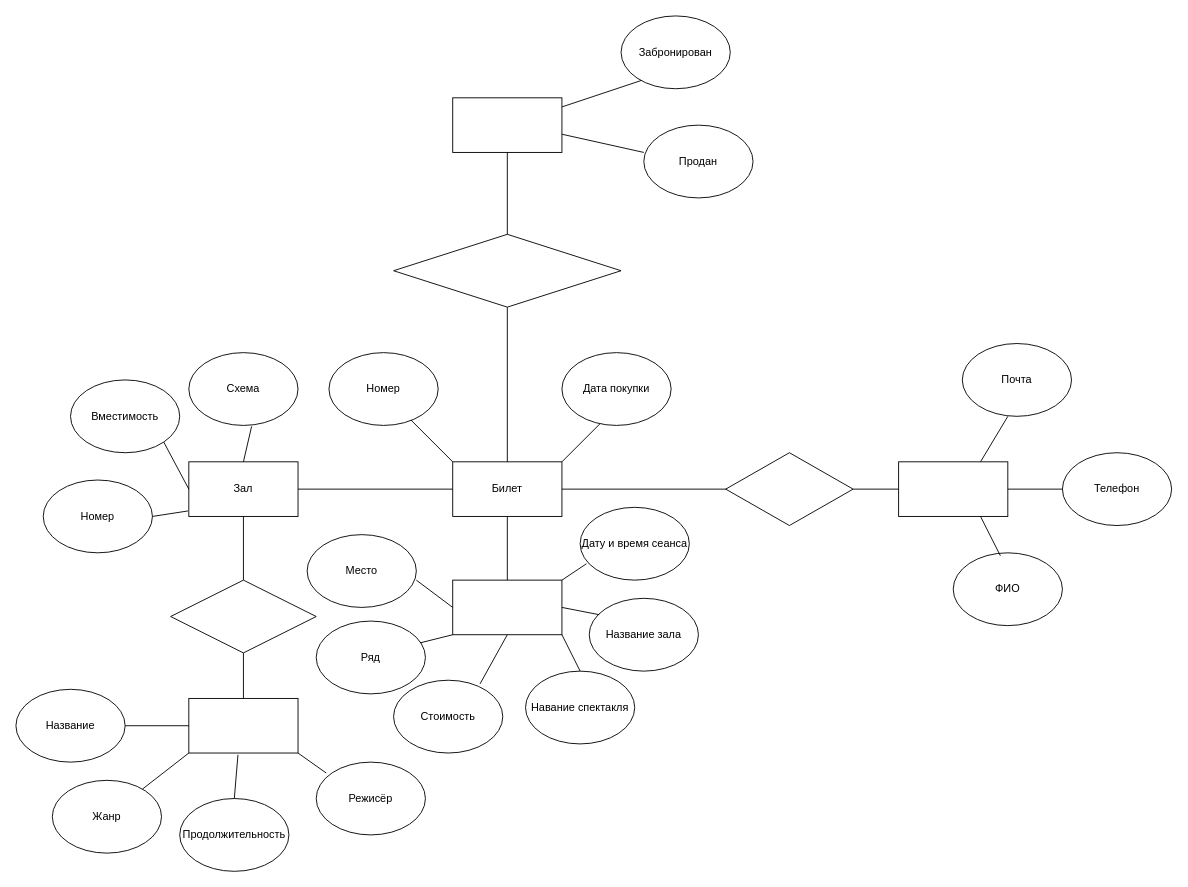
This 1188x887 diagram has some shape labels left out. The box of each missing label's shape, as (x1, y1, x2, y2) in pixels:
Бронирует: (725, 452, 853, 526)
Зритель: (898, 461, 1008, 516)
Относиться: (170, 579, 316, 653)
Содержит: (452, 579, 562, 635)
Спектакль: (188, 698, 298, 753)
Статус: (452, 97, 562, 152)
Характерезуется: (393, 233, 621, 307)
